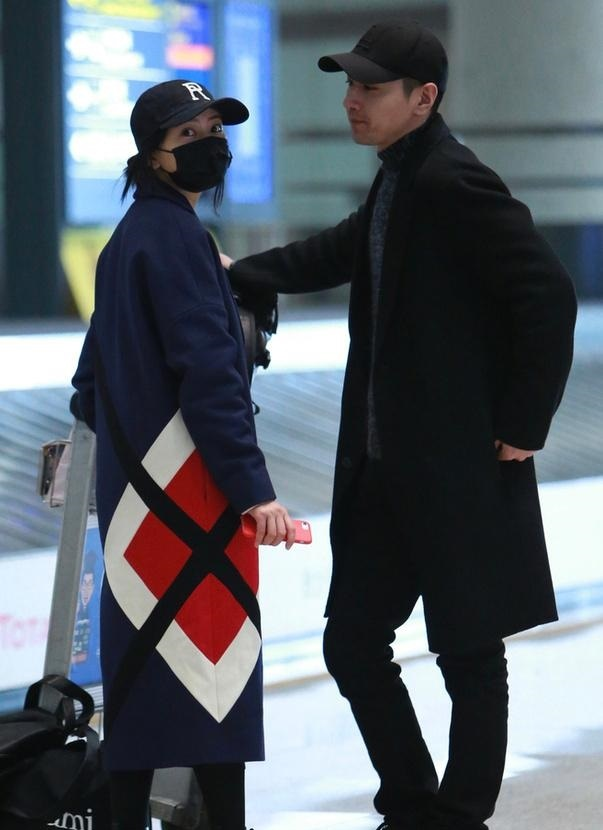Mask: (155, 108, 239, 192)
